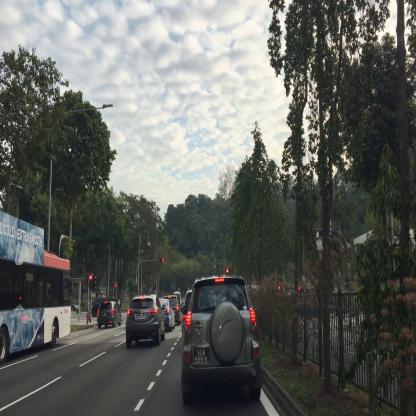red_traffic_light: (90, 274, 92, 288), (159, 258, 164, 262)
